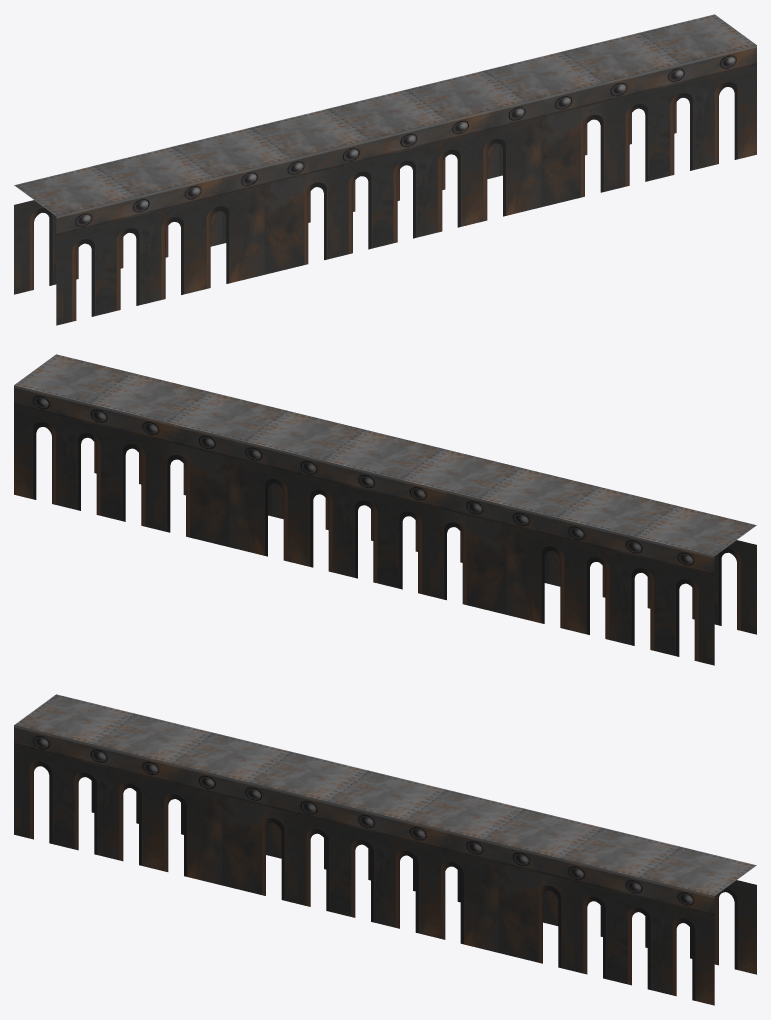
The model's file is chase_thin_platform.fbx.
The picture shows the model from 3 angles, top to bottom: view 1: azimuth 30°, elevation 25°; view 2: azimuth 150°, elevation 25°; view 3: azimuth 330°, elevation 25°; orthographic projection.
Visible parts, largest first — view 1: chase_thin_platform; view 2: chase_thin_platform; view 3: chase_thin_platform.
Boxes of the visible parts, x1,y1,x2,y2 form: chase_thin_platform: [14, 14, 756, 325]; chase_thin_platform: [14, 354, 756, 665]; chase_thin_platform: [14, 694, 756, 1005].
Bounding box in the file's own units: 1963 × 293 × 205.
